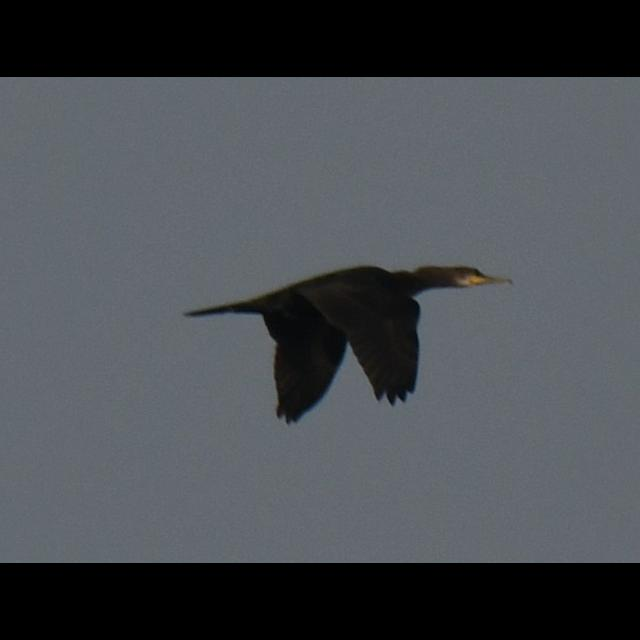cormorant: (167, 258, 527, 434)
